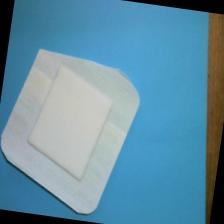Cut: (1, 38, 152, 224)
